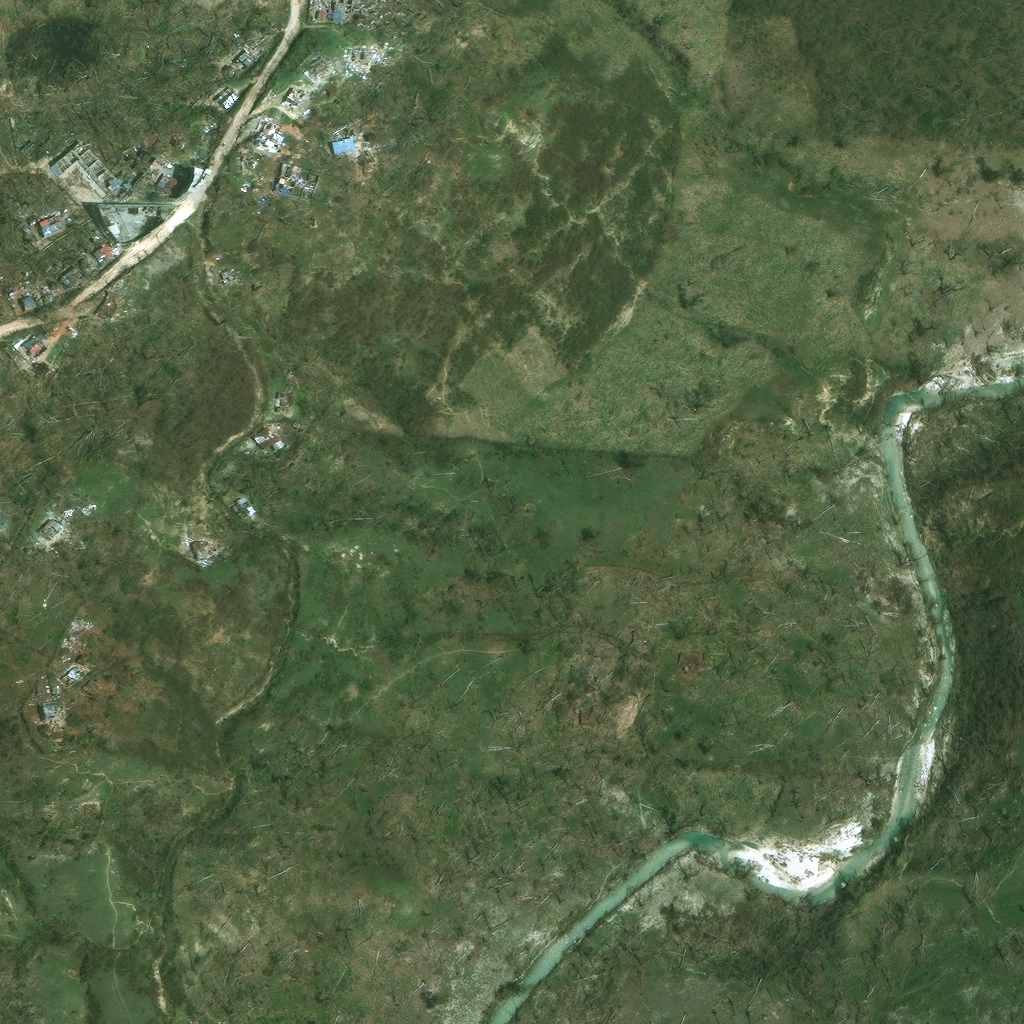destroyed: (301, 62, 325, 83), (685, 647, 708, 667), (170, 577, 192, 594), (266, 423, 285, 442), (37, 542, 56, 559), (31, 360, 47, 379), (585, 669, 600, 689), (580, 700, 598, 716), (58, 692, 74, 708), (234, 157, 248, 174), (349, 154, 362, 171), (246, 521, 259, 534), (54, 817, 66, 830), (16, 738, 27, 748)
major_damage: (65, 129, 146, 196), (256, 166, 287, 204), (314, 129, 350, 159), (88, 291, 116, 324), (53, 201, 83, 228), (17, 334, 43, 361), (22, 521, 47, 548), (92, 240, 117, 265), (244, 428, 268, 454), (223, 80, 248, 104), (251, 118, 273, 144), (165, 169, 189, 192), (215, 263, 239, 285), (229, 496, 250, 521), (246, 39, 268, 62), (278, 88, 298, 111), (267, 393, 285, 417), (321, 0, 338, 18), (339, 51, 358, 67), (22, 715, 37, 734), (45, 678, 61, 694)
minor_damage: (98, 201, 187, 247), (63, 262, 88, 286), (42, 281, 60, 299), (172, 552, 183, 571)
